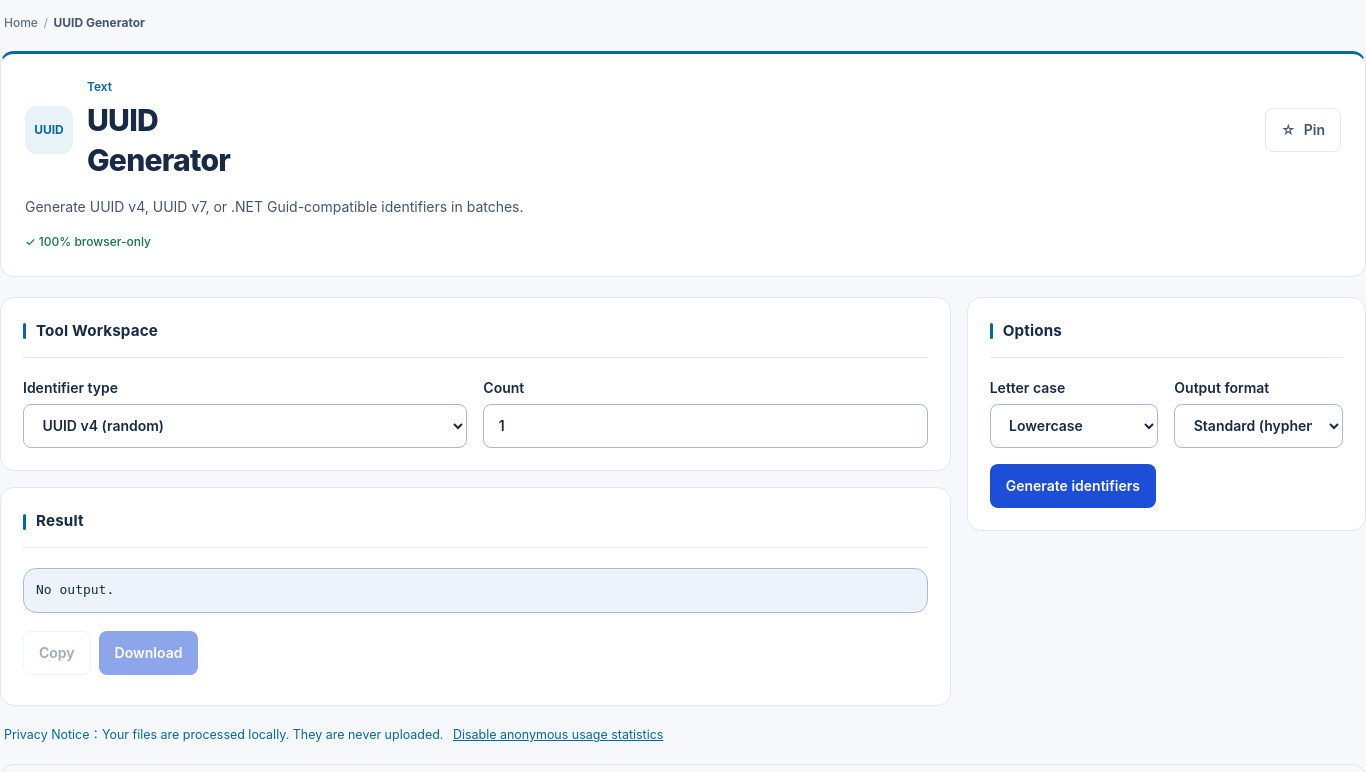
Test: UuidPage › generates the chosen identifier type and presentation format
Select "UUID v7 (time-ordered)" in the dropdown labelled "Identifier type": (245, 426) [23,404,467,448]
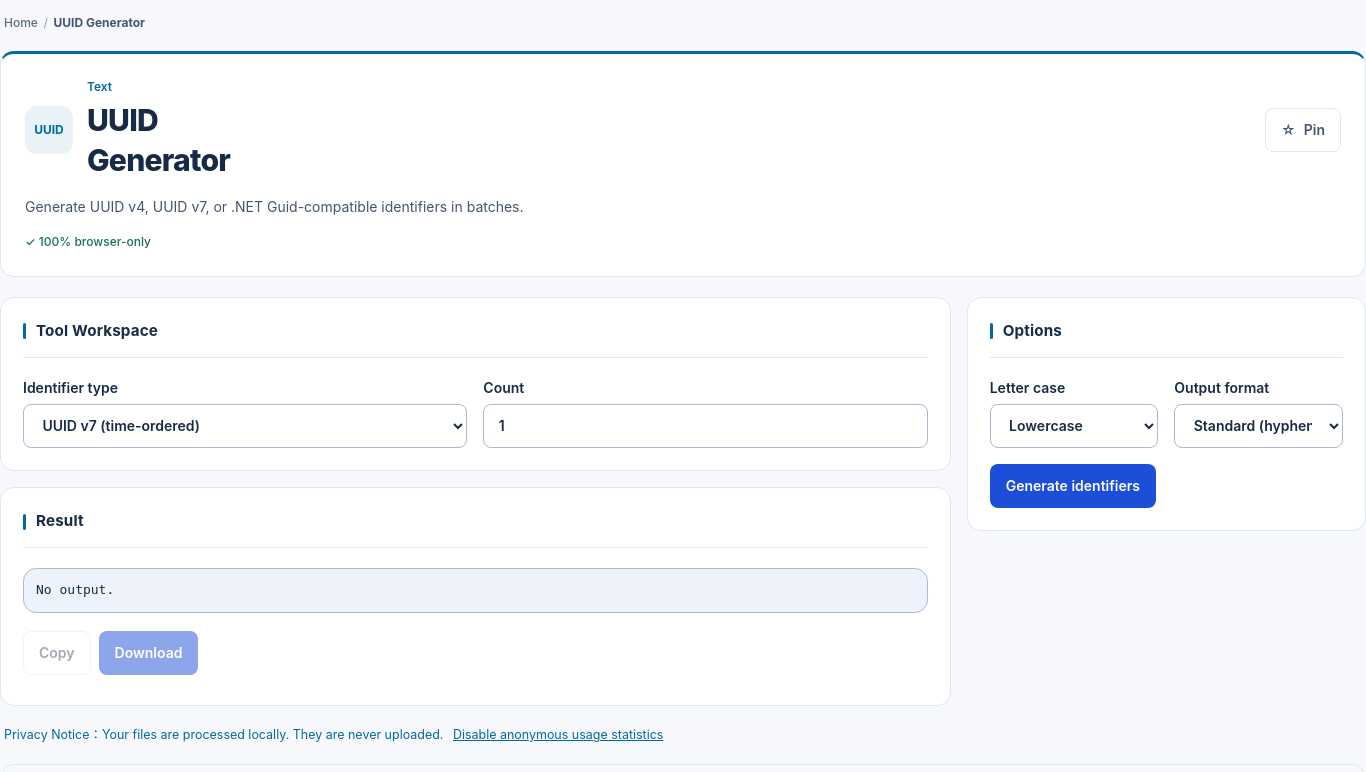
Select "Uppercase" in the dropdown labelled "Letter case": (1074, 426) [990,404,1158,448]
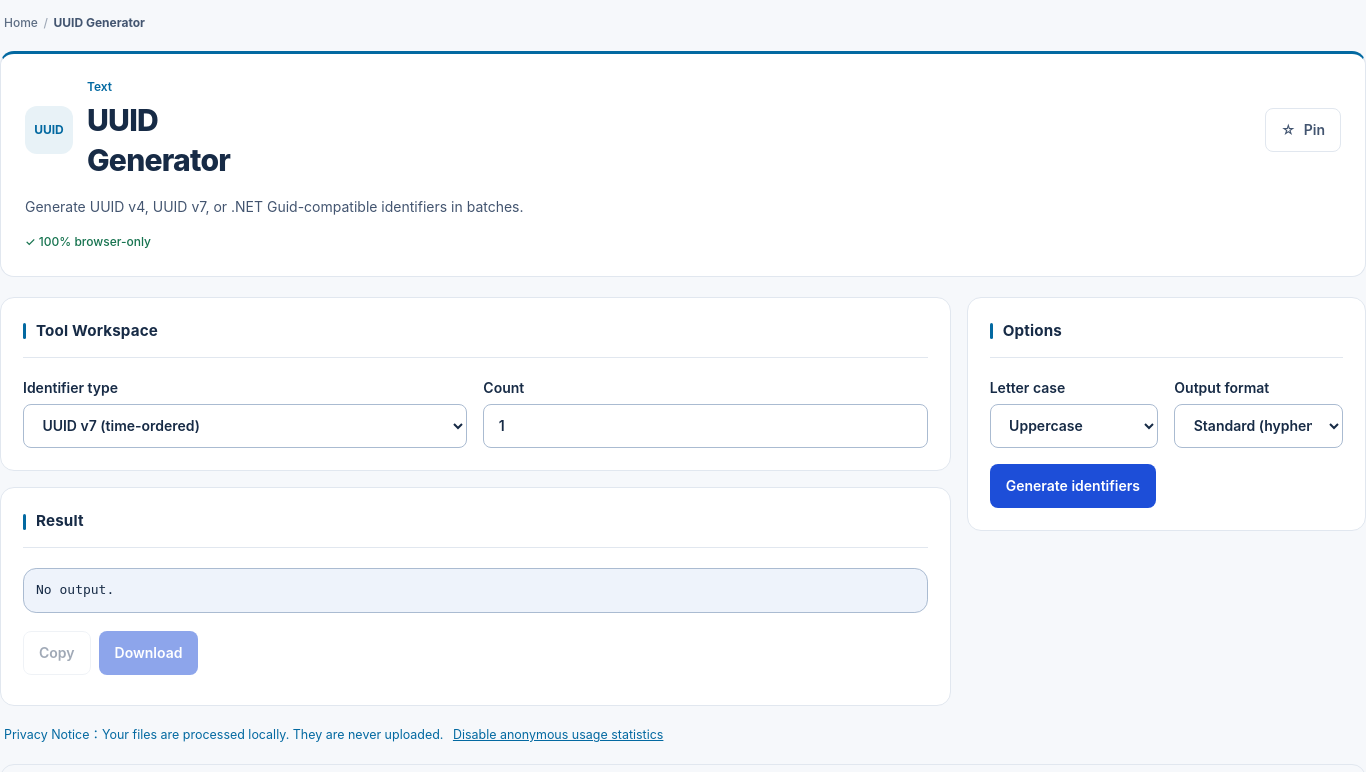
Select "Braced" in the dropdown labelled "Output format": (1259, 426) [1174,404,1343,448]
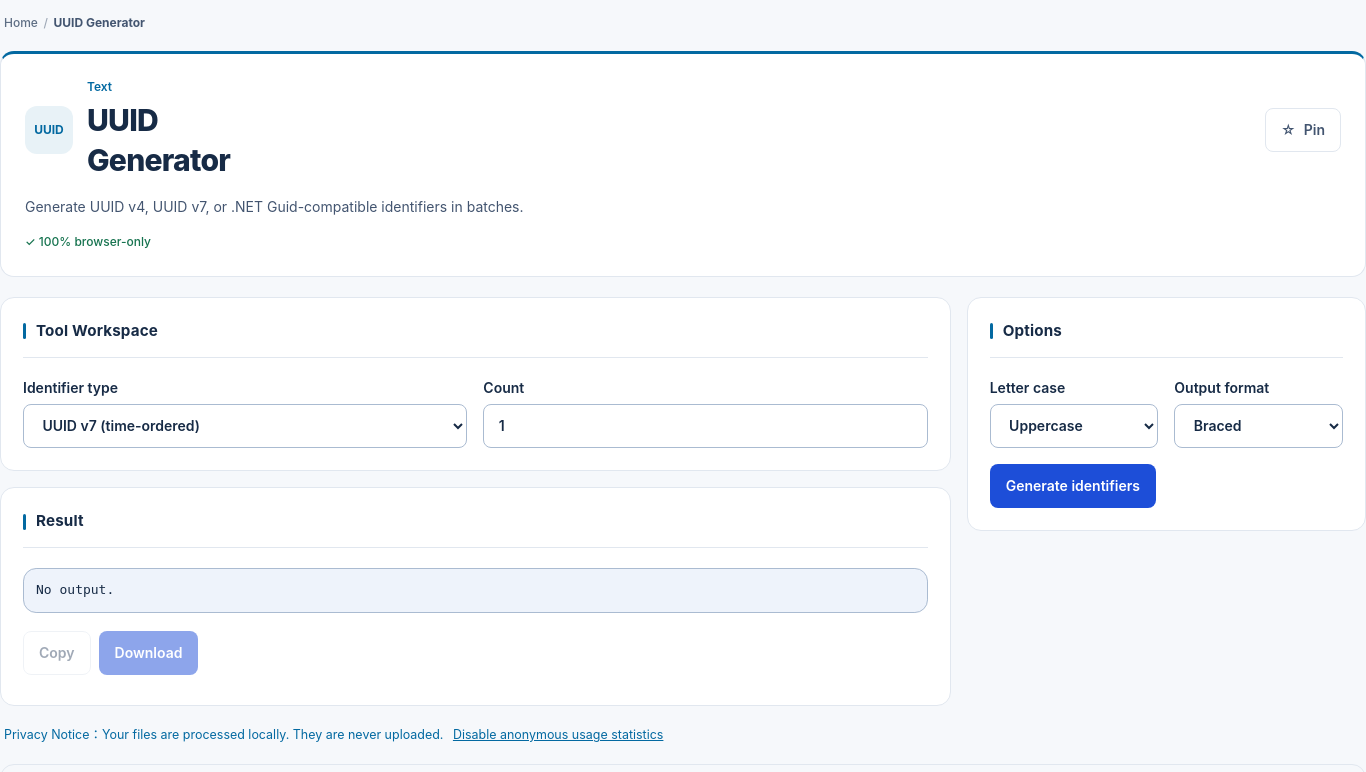
Replace the text in the number field labelled "Count" with "2": (706, 426) [483,404,928,448]
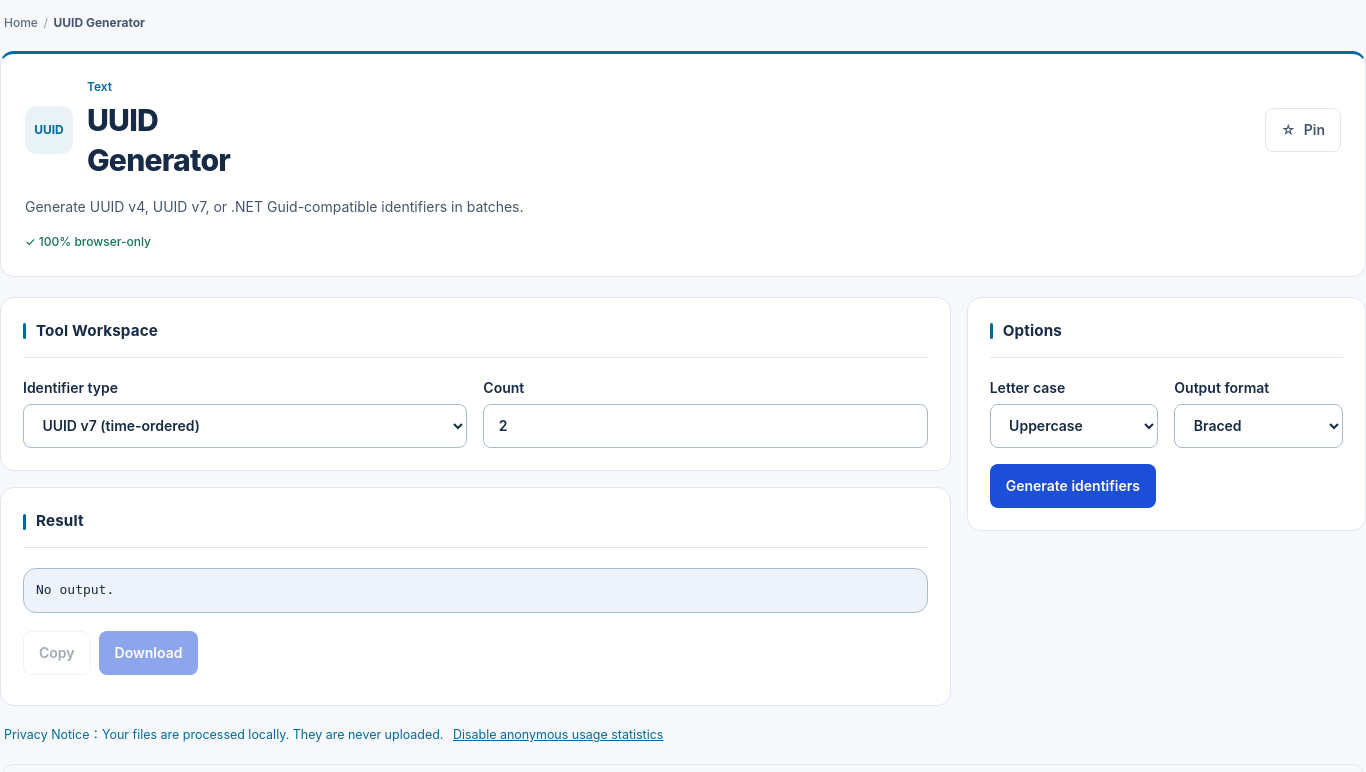
Click the button "Generate identifiers": click(1073, 486) [990,464,1156,508]
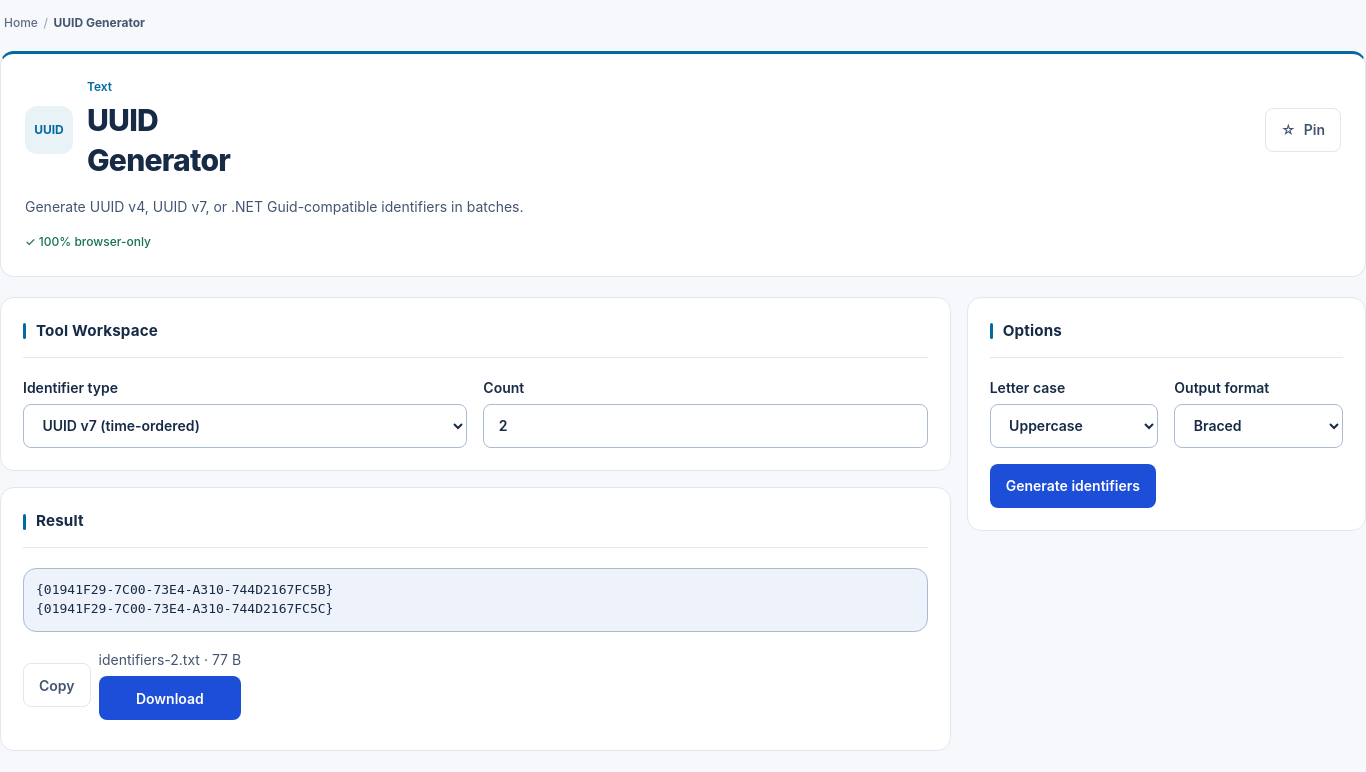
Now the text "{01941F29-7C00-73E4" is shown, box [36,582,333,616]
